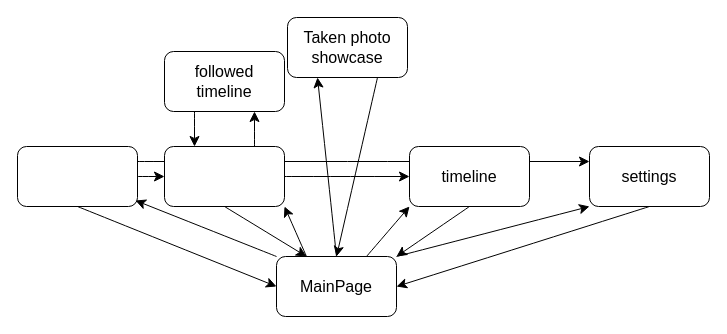
Some shapes in this 727 by 334 pixel diagram are drawn without their labels. Each missing label, with the centre of its shape:
"followed list" goes at point (224, 176).
"Profile/login (like in BBk)" goes at point (77, 176).
